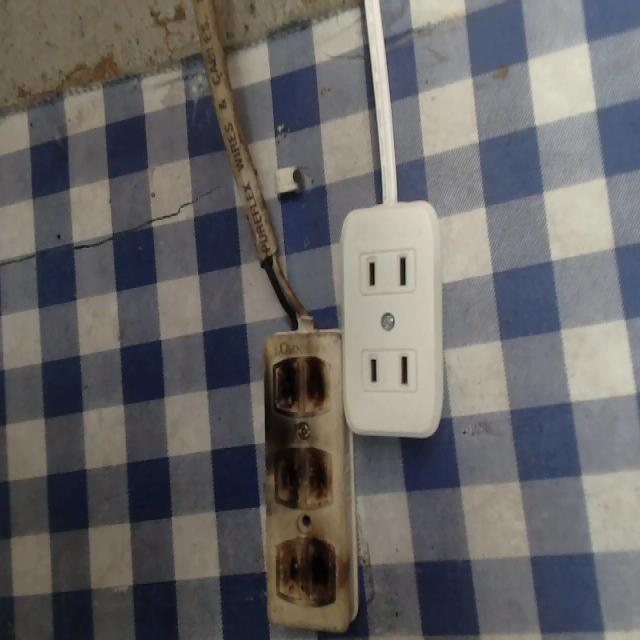-: (271, 438, 341, 506), (270, 533, 335, 604), (273, 350, 333, 418)
